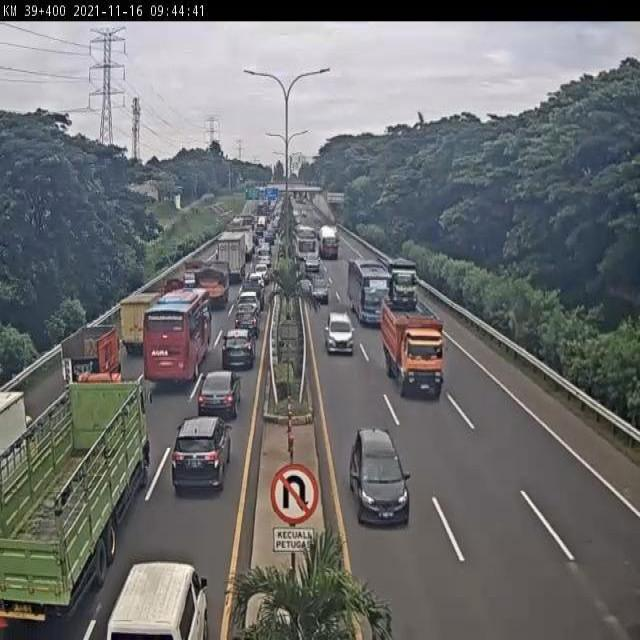big bus: (142, 292, 210, 385), (347, 259, 393, 325)
car: (347, 428, 409, 527), (172, 419, 228, 488), (194, 372, 239, 421), (221, 331, 253, 373), (326, 311, 355, 353), (307, 272, 331, 303), (232, 308, 259, 335), (236, 288, 261, 316)
small truck: (118, 291, 159, 352)
truck-l-: (0, 381, 151, 624), (385, 252, 420, 308)
truck-m-: (385, 312, 445, 400), (56, 328, 121, 392), (195, 268, 231, 308)
